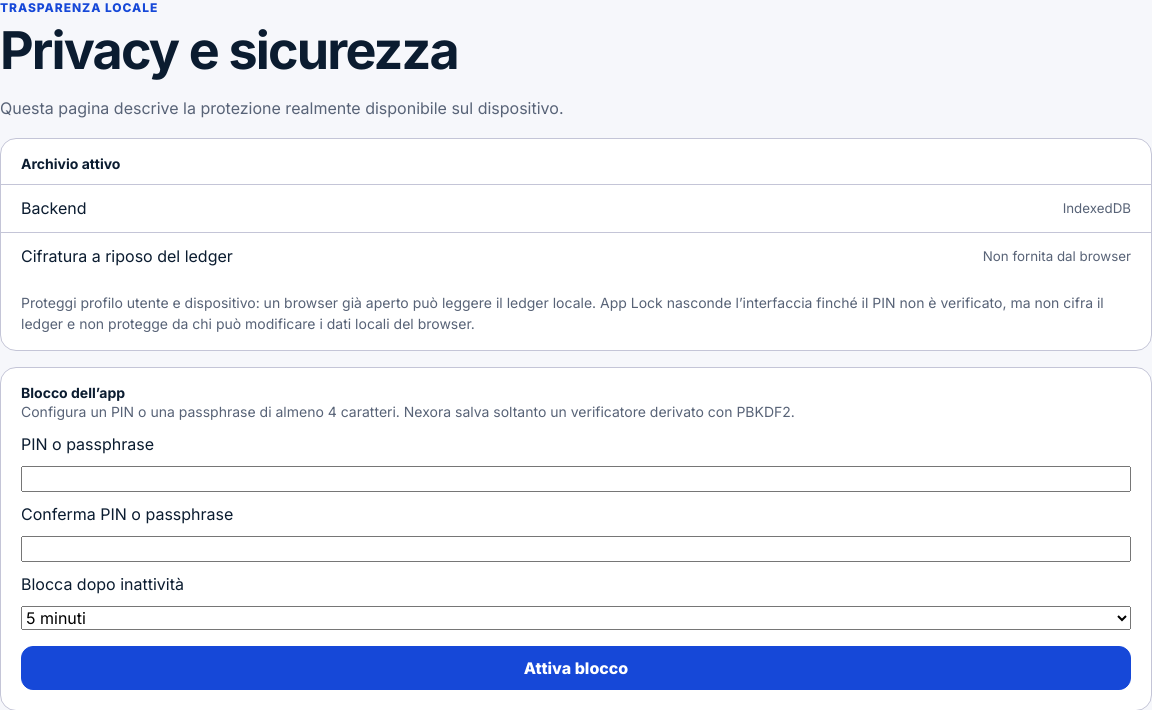
PrivacySecurityPage app lock › requires matching confirmation before storing the lock
The width and height of the screenshot is (1152, 710).
Type "4937" into the password field labelled "PIN o passphrase" at (576, 478), box [21,466,1131,492]
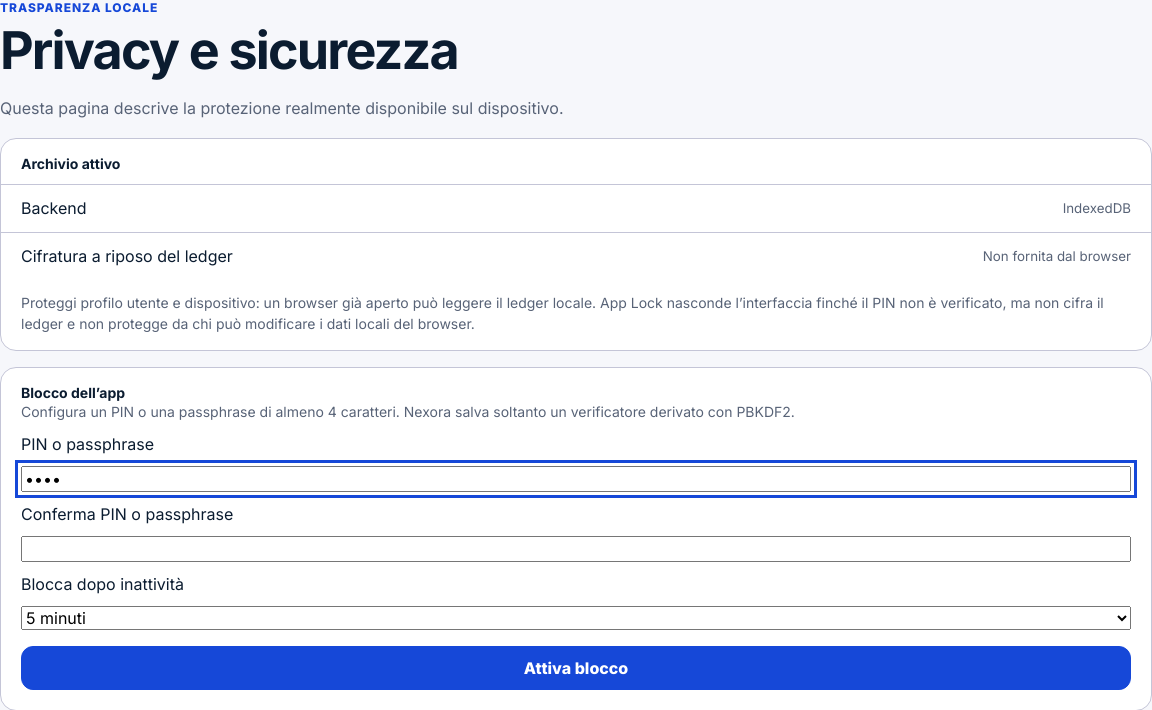
Type "4938" into the password field labelled "Conferma PIN o passphrase" at (576, 548), box [21,536,1131,562]
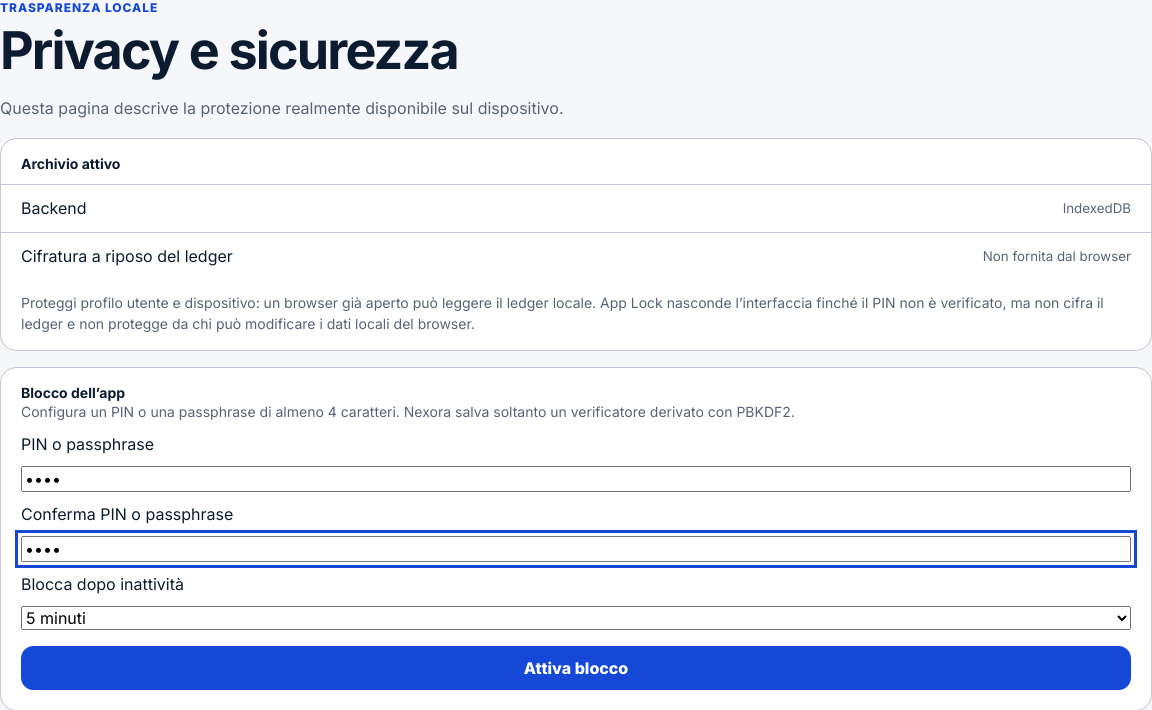
Click the button "Attiva blocco" at (576, 668), box [21,646,1131,690]
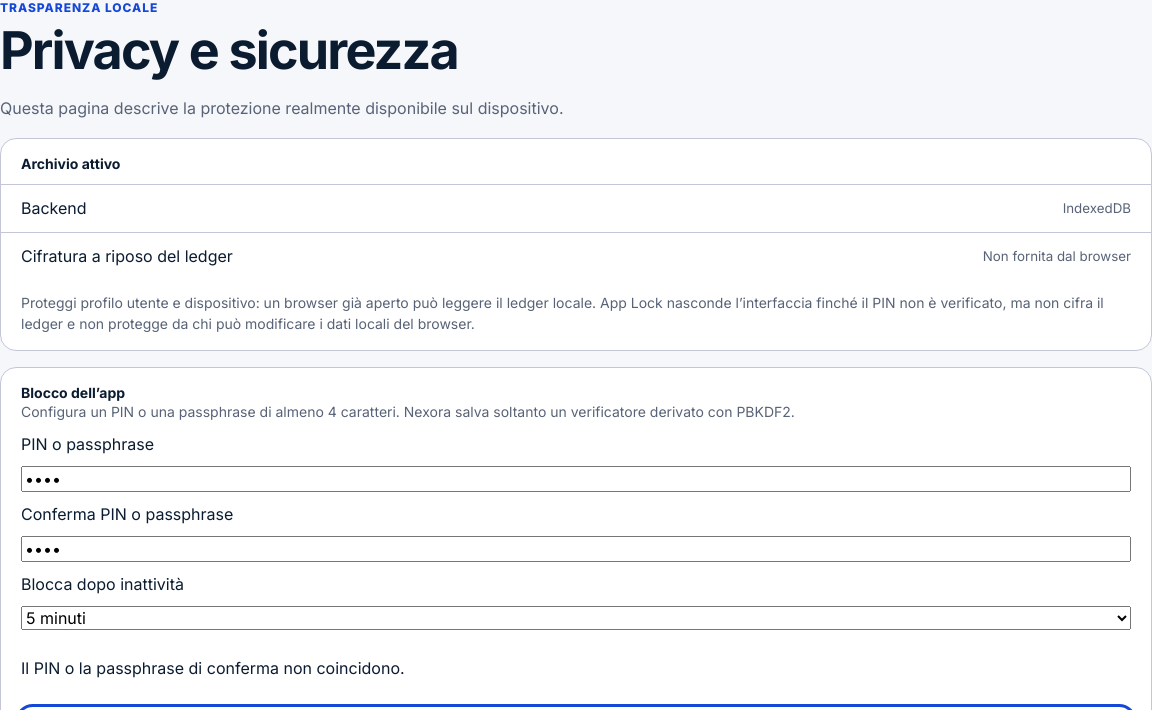
Check: the message shows "non coincidono", box [21,658,405,678]
